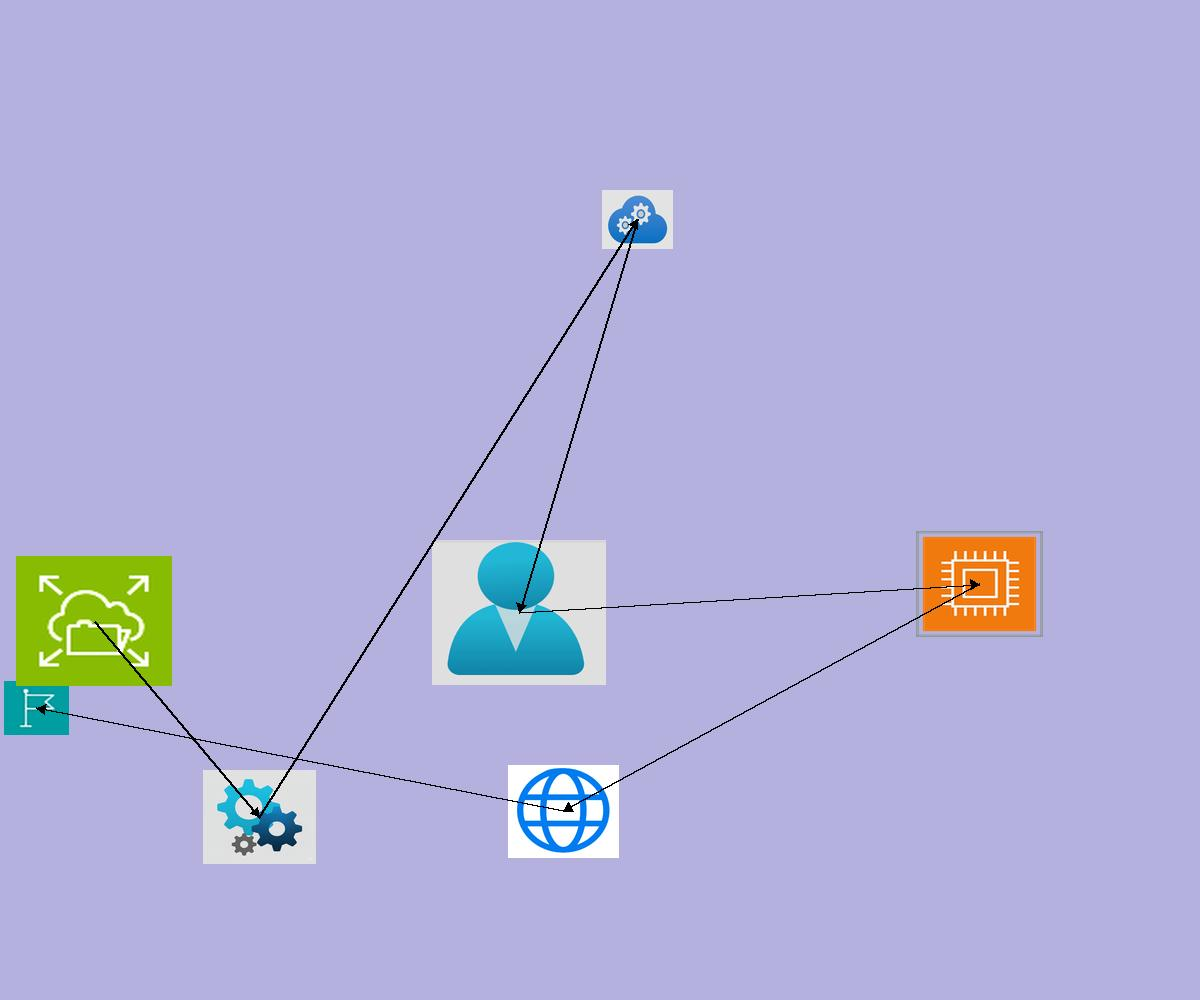AWS-Category_Compute: (916, 531, 1043, 637)
AWS-EFS: (16, 556, 172, 686)
AWS-Region: (4, 681, 69, 735)
Azure_api: (203, 770, 316, 864)
Azure_cloud_services: (602, 190, 673, 249)
Azure_http: (508, 765, 619, 858)
Azure_users: (432, 540, 606, 685)
